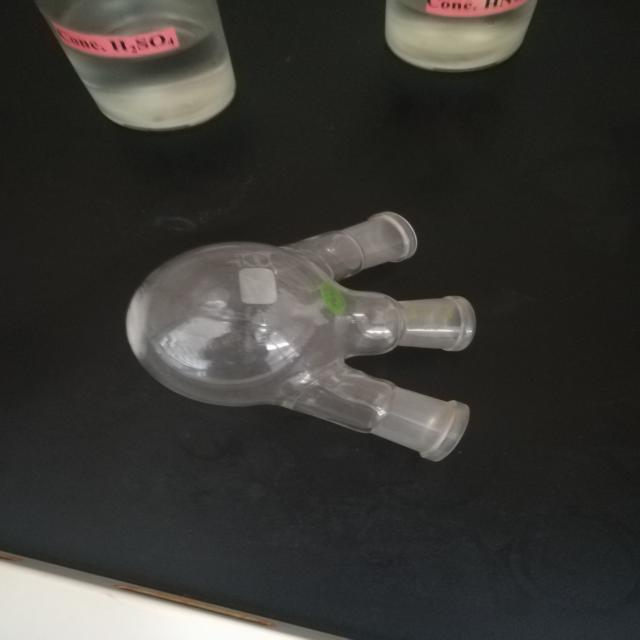Round_Bottom_Flask_Borosilicate_Glass_3_Neck: (93, 178, 545, 500)
